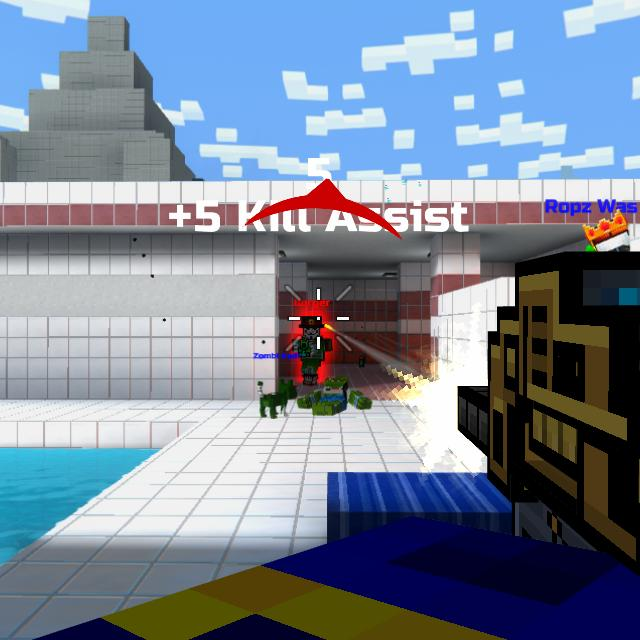Enemy: (293, 318, 334, 386)
